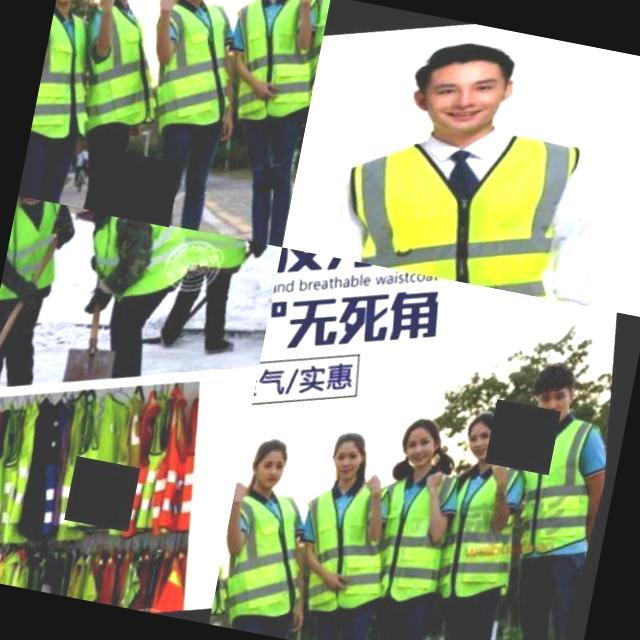vest: (340, 92, 614, 306), (430, 452, 540, 606), (296, 468, 403, 620), (212, 481, 318, 621), (506, 415, 606, 560), (65, 377, 155, 538), (364, 468, 464, 612), (141, 0, 247, 129), (72, 210, 198, 318), (226, 0, 331, 127), (78, 0, 171, 127), (30, 0, 111, 141), (0, 196, 83, 311), (166, 226, 260, 288)
